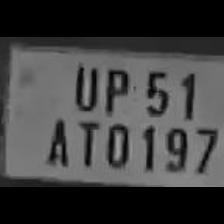0: (99, 117, 130, 169)
1: (173, 67, 199, 119), (134, 120, 158, 172)
5: (137, 65, 171, 117)
7: (190, 121, 220, 177)
9: (160, 122, 188, 174)
A: (40, 112, 72, 168)
P: (100, 64, 132, 114)
T: (71, 116, 102, 168)
U: (68, 61, 100, 112)
